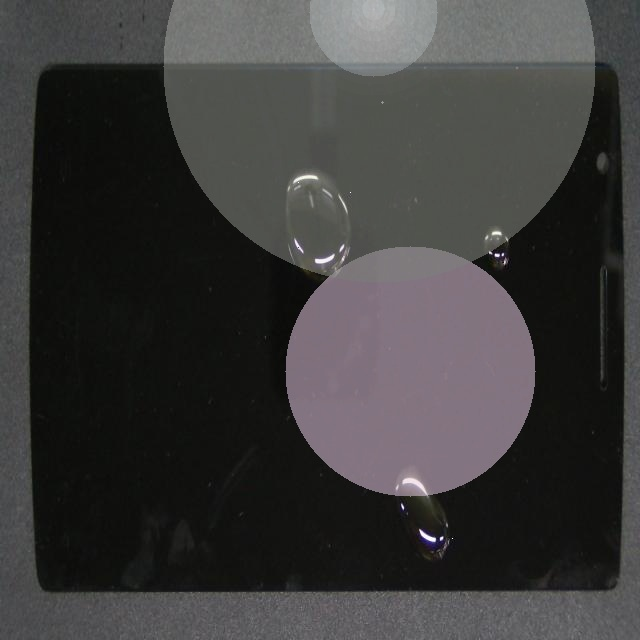oil: (224, 252, 628, 640), (224, 93, 640, 365), (128, 48, 422, 320)
